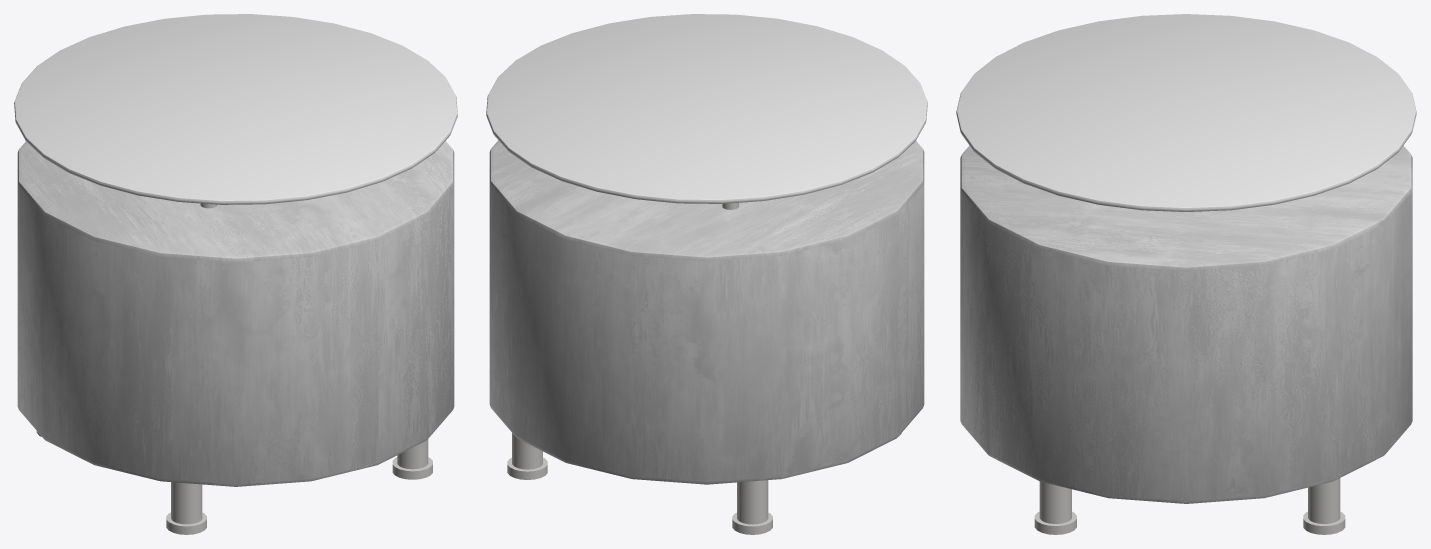
The model's file is TableSmall01.FBX.
The picture shows the model from 3 angles, left to right: view 1: azimuth 30°, elevation 25°; view 2: azimuth 150°, elevation 25°; view 3: azimuth 270°, elevation 25°; orthographic projection. The views are drawn at different scales.
Parts seen in each view (by area): view 1: TableSmall01; view 2: TableSmall01; view 3: TableSmall01.
Part boxes in pixels (x1=…): TableSmall01: x1=14, y1=14, x2=457, y2=534; TableSmall01: x1=486, y1=14, x2=927, y2=534; TableSmall01: x1=956, y1=14, x2=1416, y2=534.
Size of the model in its own units: 80.25 by 68.84 by 80.25.
